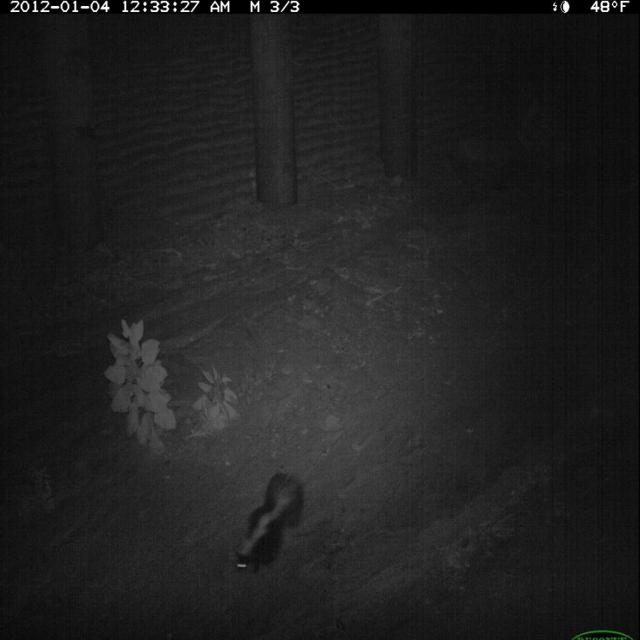skunk: (230, 464, 310, 585)
